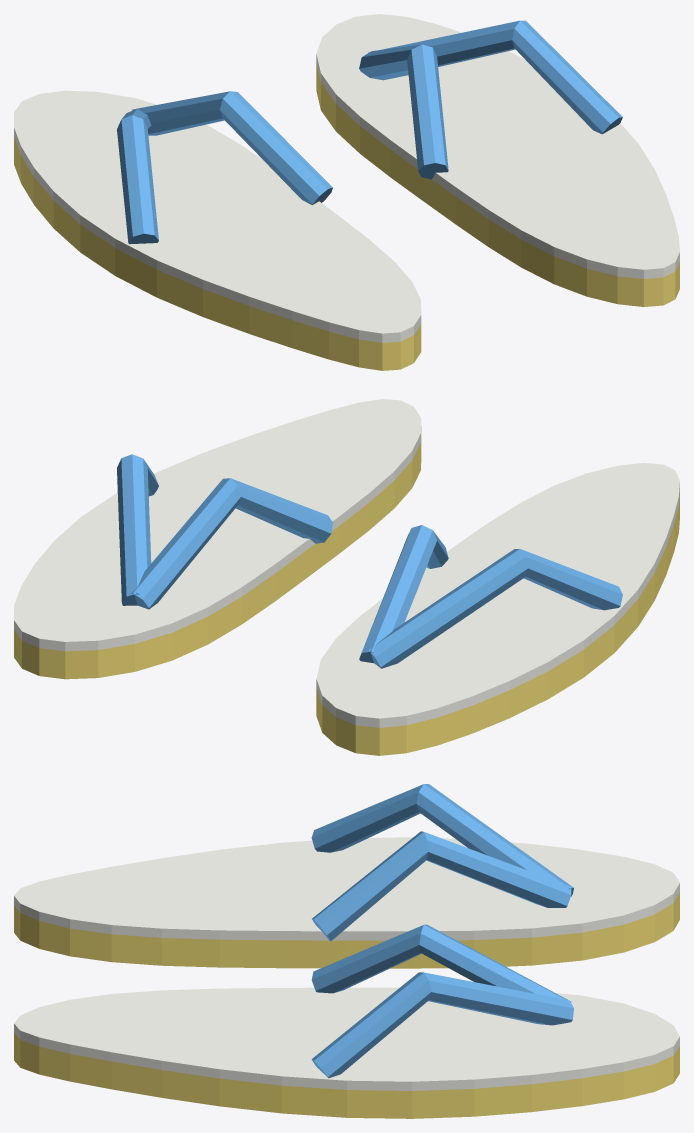
File: flipflops.glb
3 views of the same model, one above another, from view 1: azimuth 30°, elevation 25°; view 2: azimuth 150°, elevation 25°; view 3: azimuth 270°, elevation 25° (orthographic).
Visible parts, largest first — view 1: flipflops; view 2: flipflops; view 3: flipflops.
Part boxes in pixels (<box>): flipflops: <box>14,14,679,370</box>; flipflops: <box>14,399,679,755</box>; flipflops: <box>14,784,679,1118</box>.
Size of the model in its own units: 0.2259 by 0.051 by 0.26.
